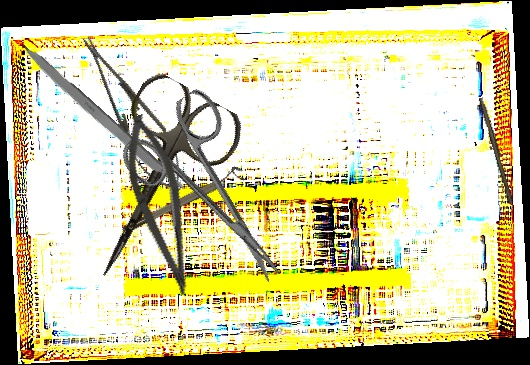Fixation Ring: (118, 163, 247, 237)
Iris Scissors: (52, 67, 251, 302), (112, 85, 316, 311)
Micro Scissor: (110, 109, 213, 301)
Needle Holder: (67, 25, 198, 203)
Scalpel Handle: (15, 40, 189, 198), (476, 96, 517, 204)
